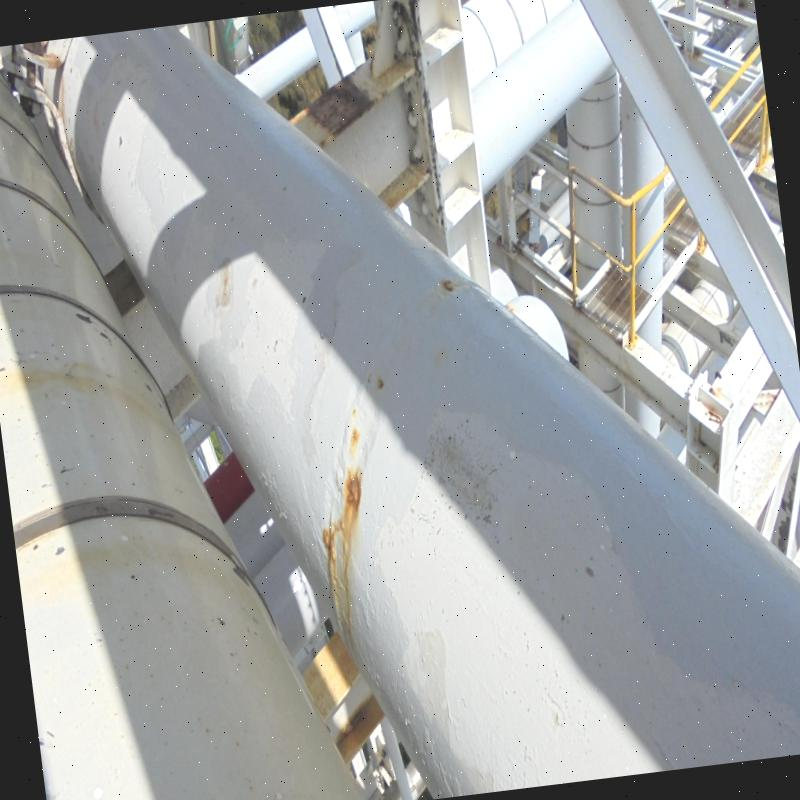corrosion: (340, 482, 361, 526)
